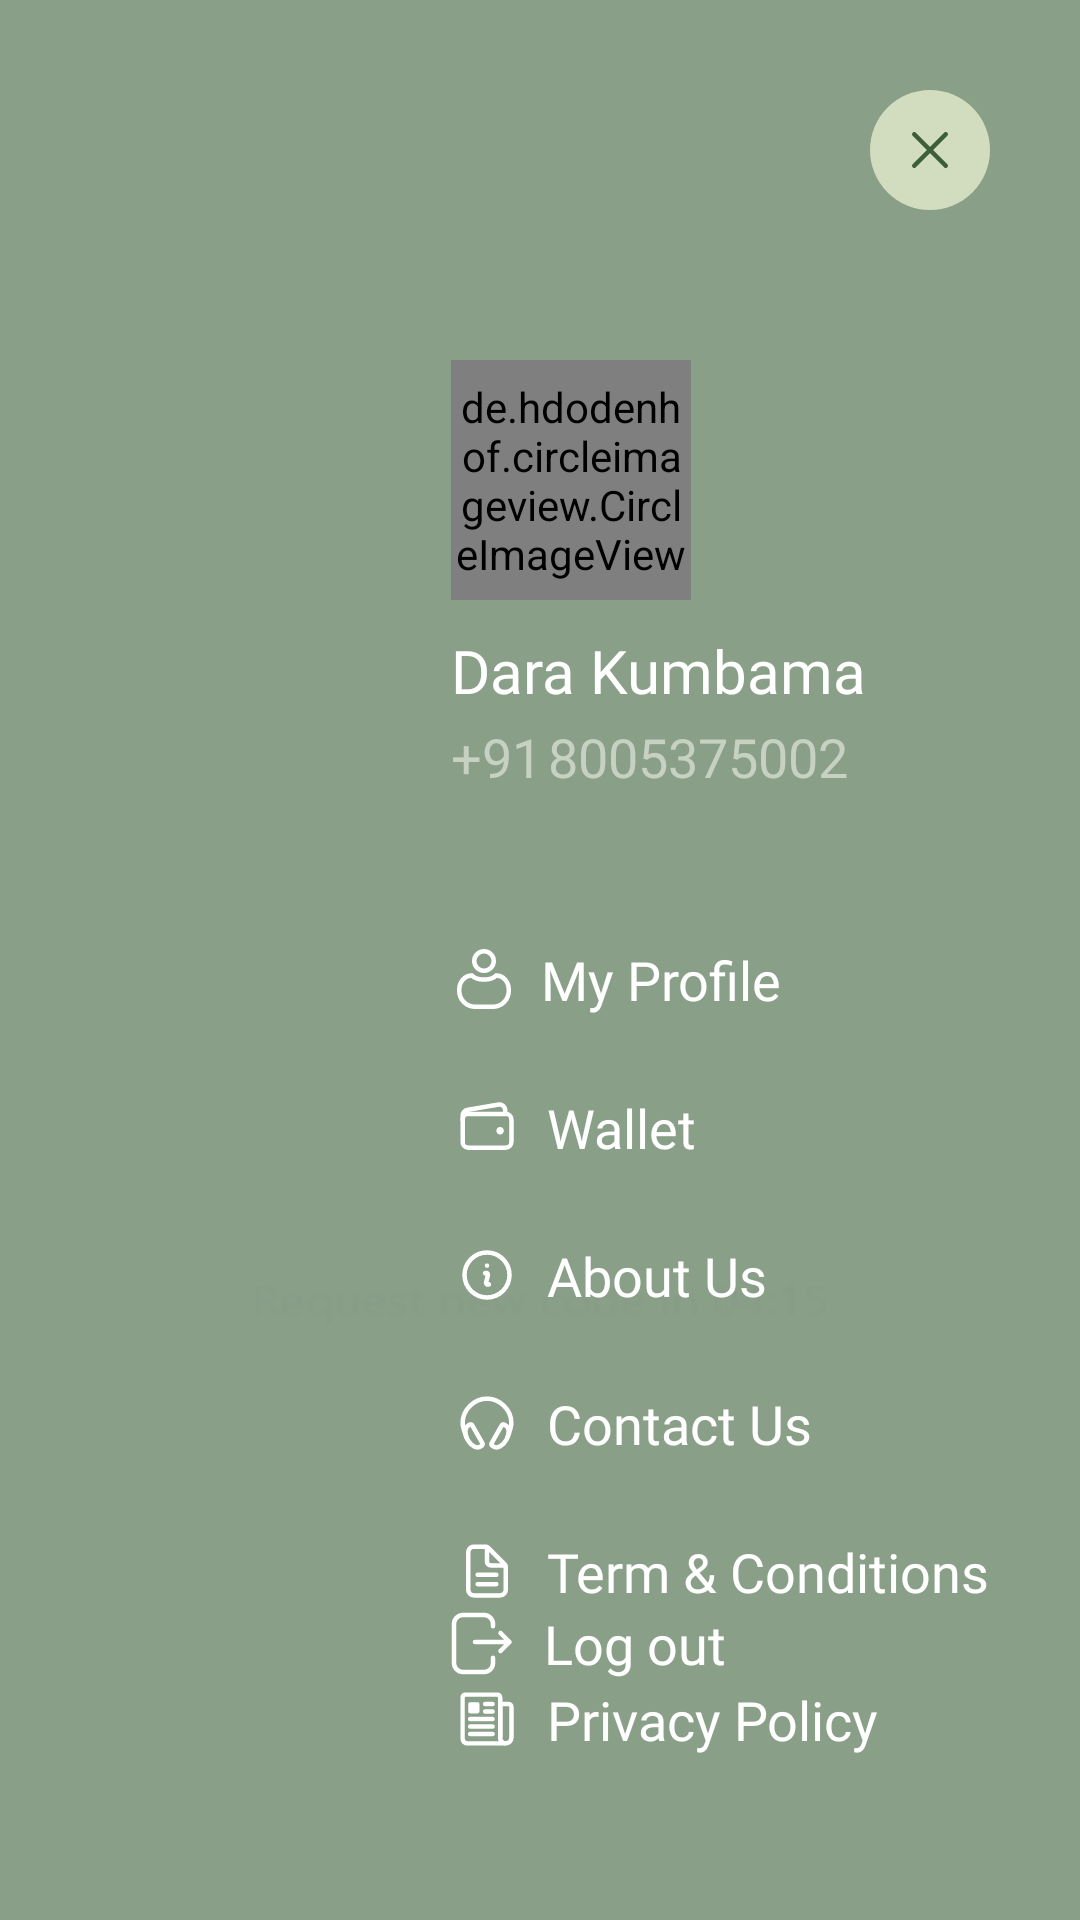

Point at icon controls on the screen. Image size 1080px x 1920px, points as point (x, y).
cross: point (930, 150)
